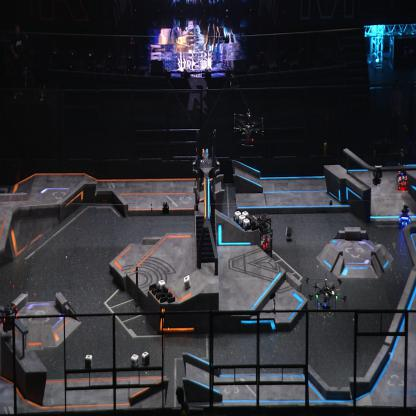car: (250, 214, 274, 254), (398, 204, 412, 229), (396, 163, 409, 189)
